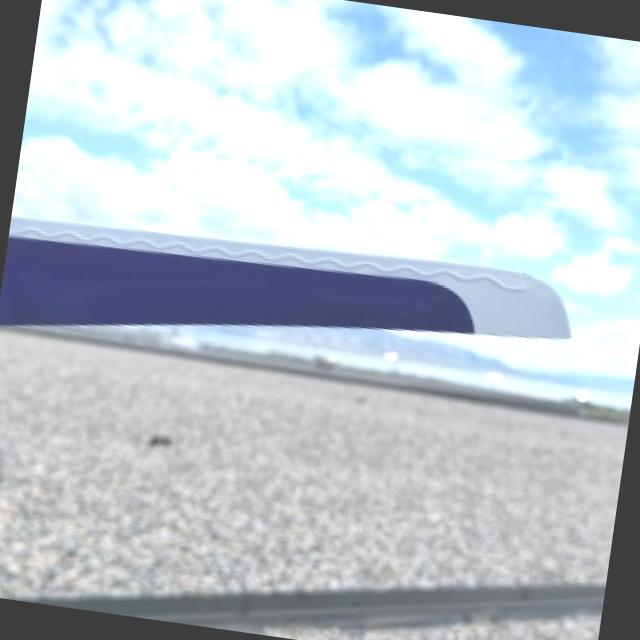healthy: (0, 217, 572, 337)
